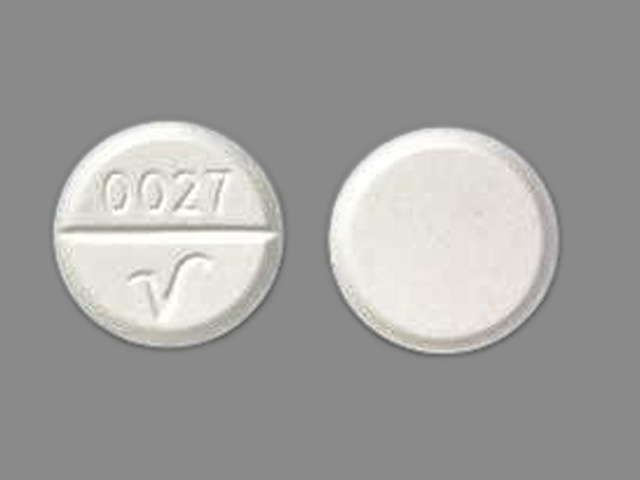Acetaminophen 325 MG Oral Tablet: (314, 117, 576, 368), (42, 113, 289, 350)
